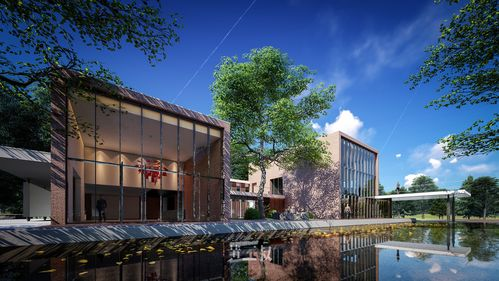buildings: (27, 66, 242, 241), (332, 132, 389, 216)
